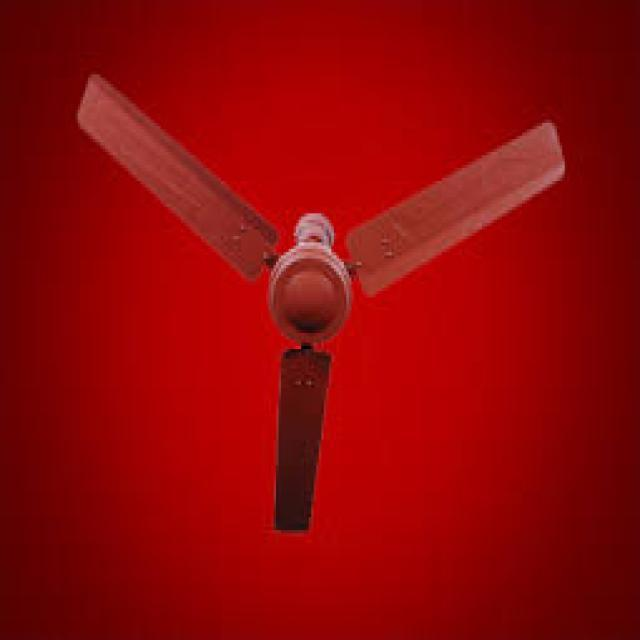fan_off: (73, 76, 564, 541)
